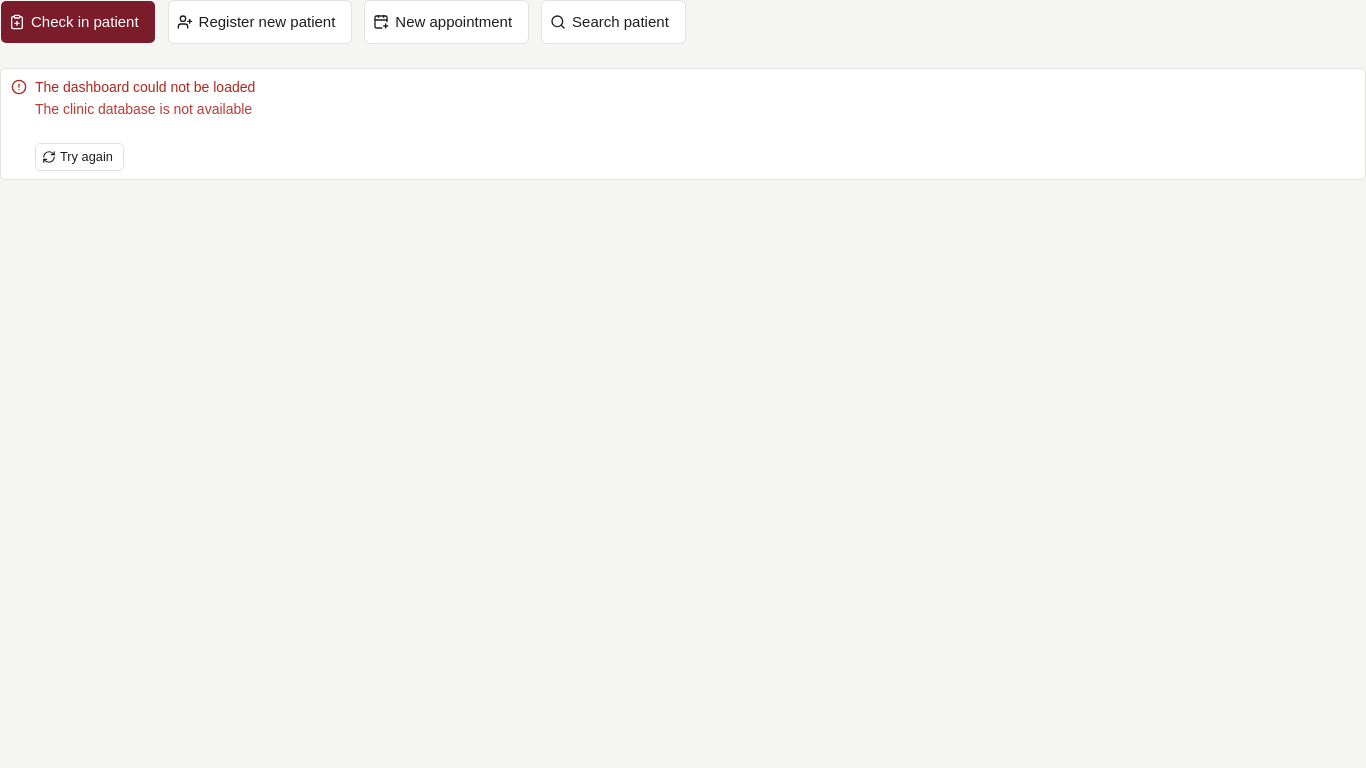
explains a failed load and loads again on request
Expected: the message shows "The dashboard could not be loaded", [35,79,255,95]
Expected: the message shows "The clinic database is not available", [35,101,252,117]
Click the button "Try again" at (79, 157), box [35,143,124,171]
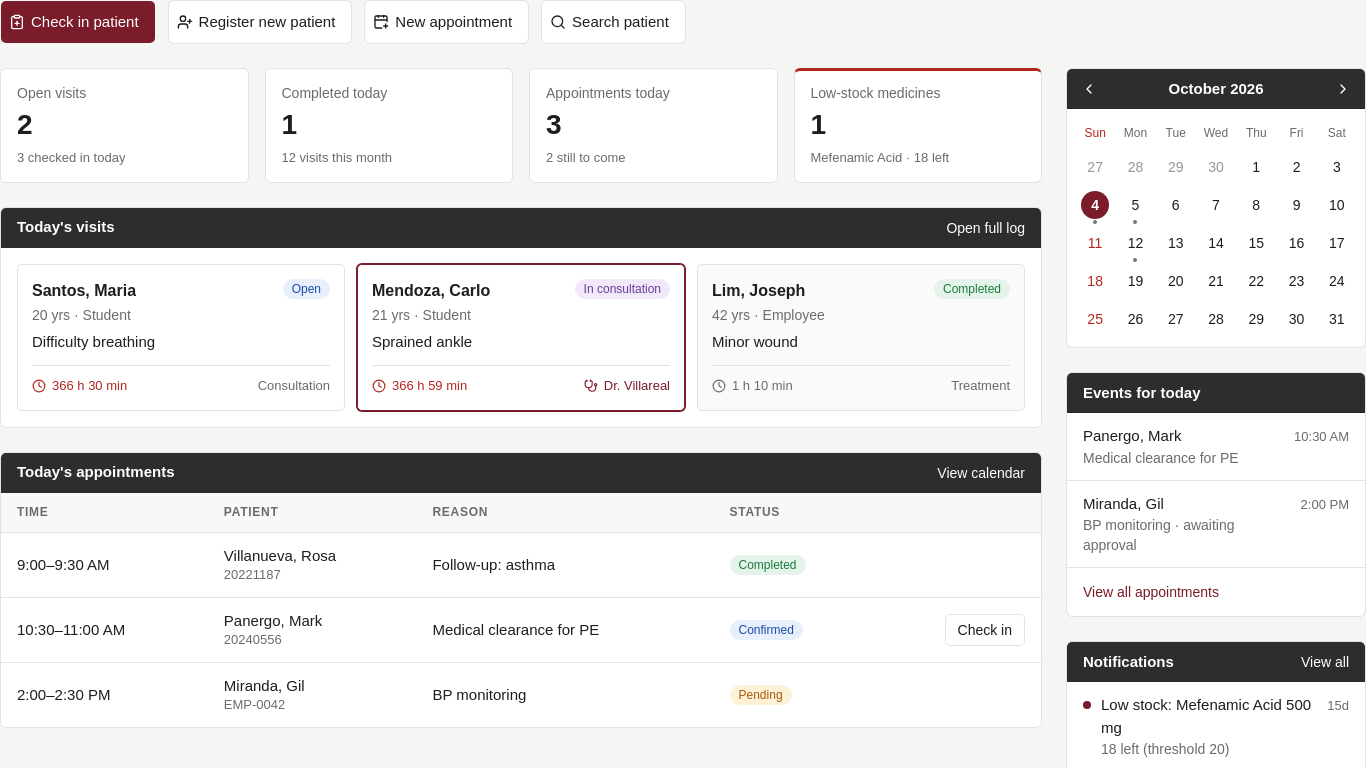
Now the text "Open visits" is shown, box [17,85,86,101]
Now the message is gone
